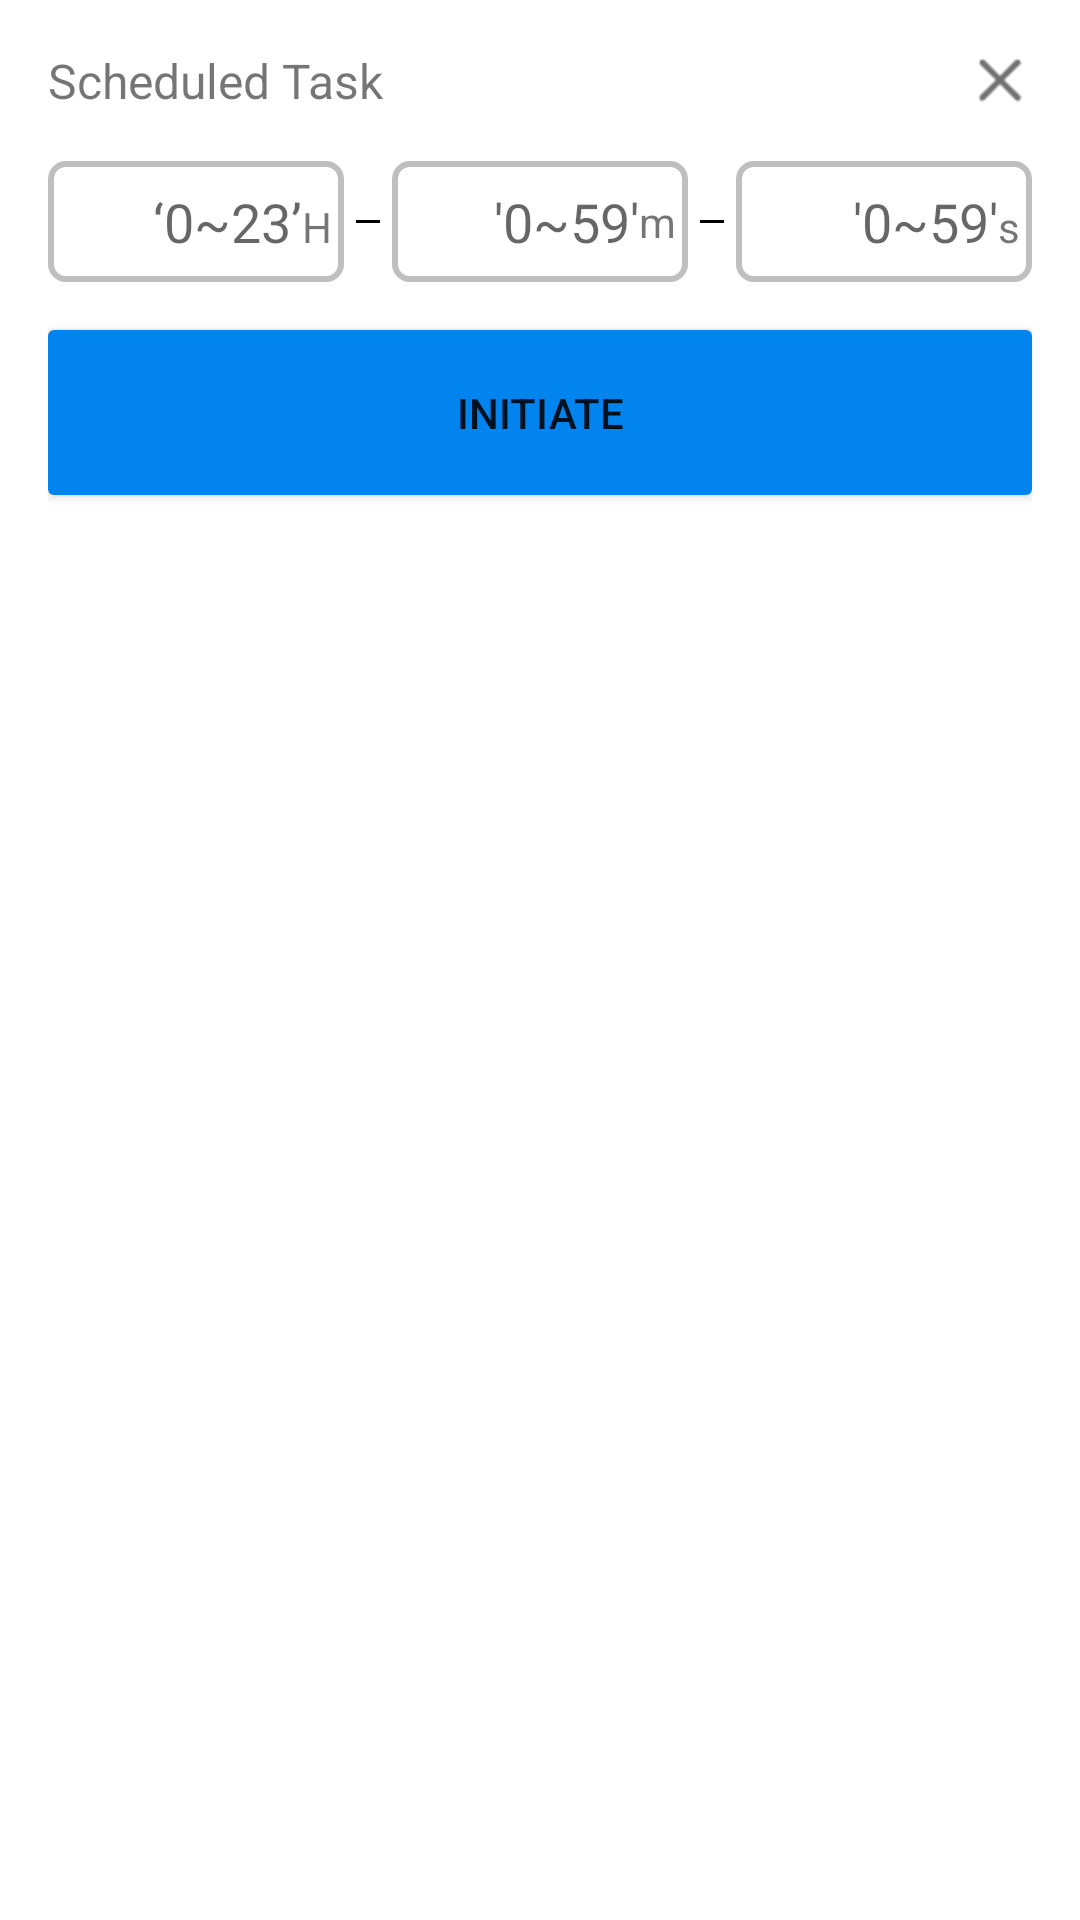

Icon bounding boxes for this 1080px x 1920px phone screenshot, format {"x1": x1, "y1": y1, "x2": x2, "y2": y2}:
interval close: {"x1": 979, "y1": 59, "x2": 1022, "y2": 102}
